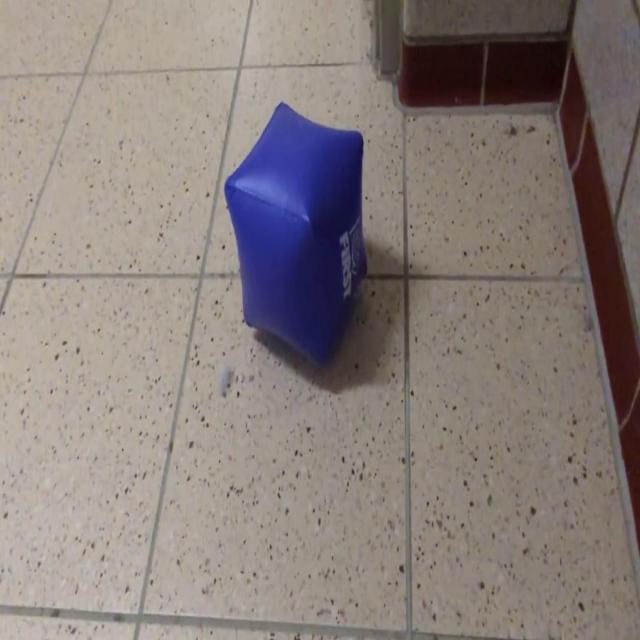frc_cube: (224, 102, 368, 374)
